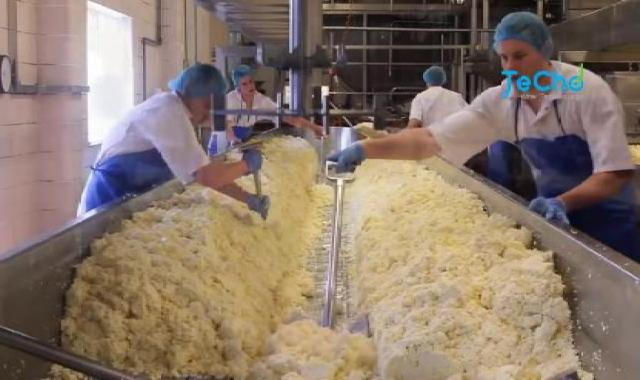hairnet: (485, 10, 568, 82), (162, 65, 226, 113), (412, 62, 447, 92), (234, 59, 271, 87)
